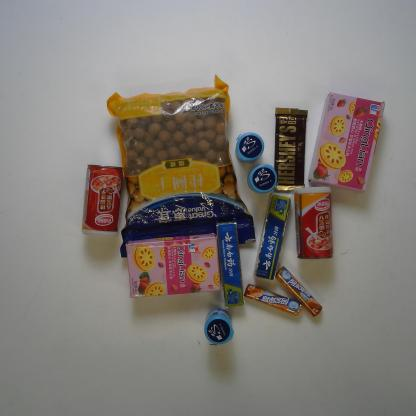Candy: (274, 264, 324, 318), (242, 282, 303, 317)
Canned Food: (78, 161, 124, 237), (292, 184, 336, 262)
Chocolate: (271, 106, 310, 192)
Dessert: (307, 90, 387, 194), (124, 231, 222, 299)
Dried Food: (104, 72, 258, 259)
Gum: (202, 307, 235, 348), (232, 131, 266, 165), (246, 163, 280, 195)
Personal Hygiene: (251, 192, 293, 282), (214, 219, 246, 310)
